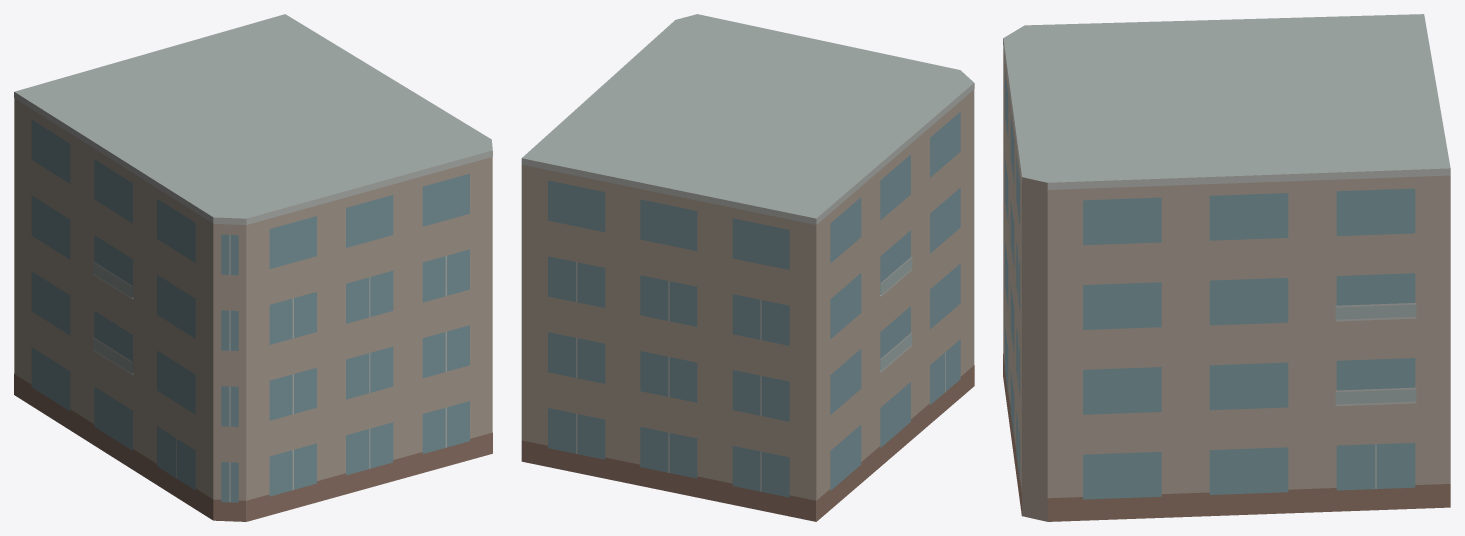
Rendered from survey-upis-32920918.glb.
The picture shows the model from 3 angles, left to right: view 1: azimuth 30°, elevation 25°; view 2: azimuth 150°, elevation 25°; view 3: azimuth 270°, elevation 25°; orthographic projection. The views are drawn at different scales.
Parts seen in each view (by area): view 1: survey-upis-32920918.tmp; view 2: survey-upis-32920918.tmp; view 3: survey-upis-32920918.tmp.
Part boxes in pixels (<box>): survey-upis-32920918.tmp: <box>14,14,492,521</box>; survey-upis-32920918.tmp: <box>521,14,974,521</box>; survey-upis-32920918.tmp: <box>1003,14,1450,521</box>.
Size of the model in its own units: 12.39 by 11.6 by 13.88.
